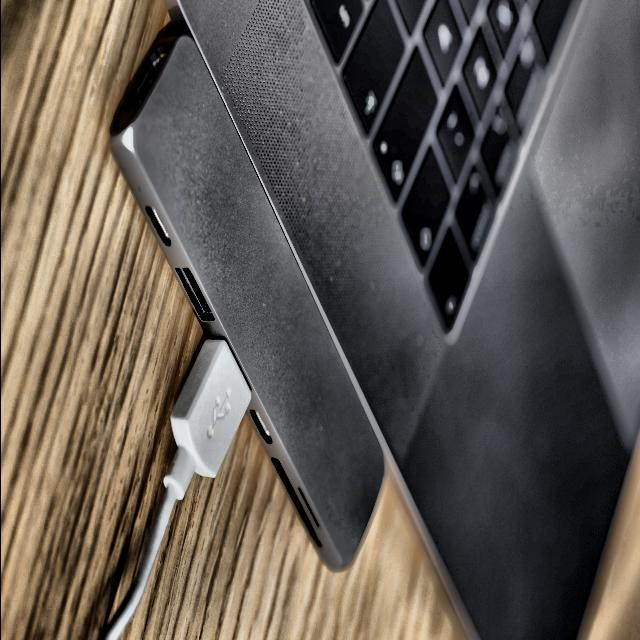HUB: (99, 35, 383, 640)
